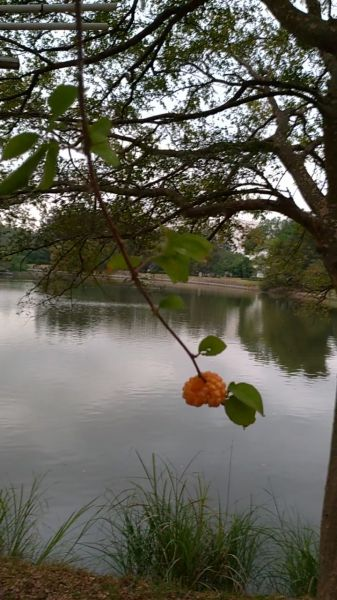eggs: (177, 370, 233, 411)
